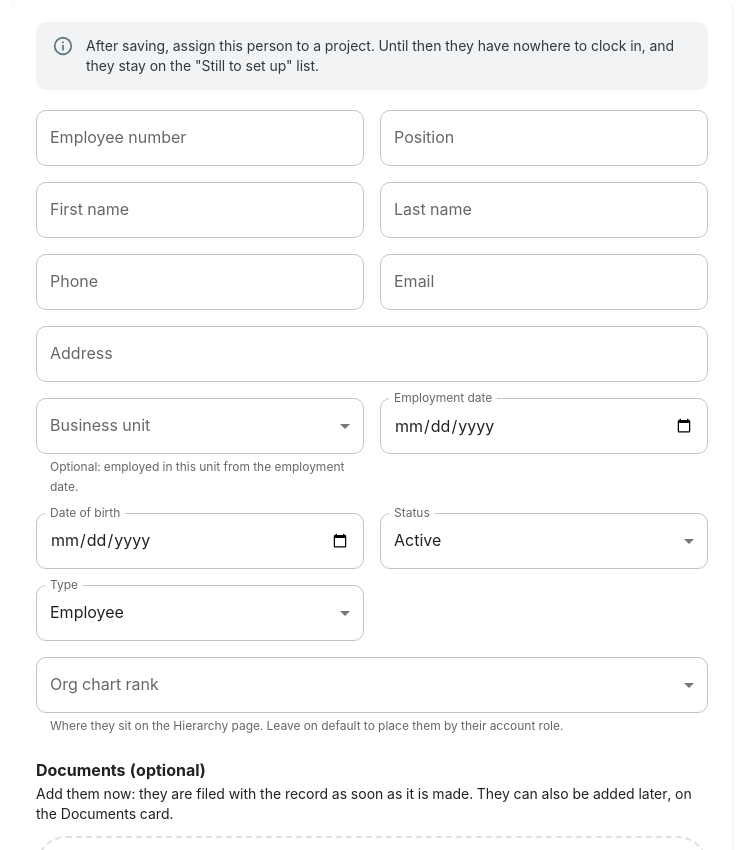
Test: EmployeeFormPage › puts a server-side field error on the field that caused it
This screenshot has width=750, height=850.
Type "EMP-001" into the field labelled "Employee number". click: (200, 138)
box: [36, 110, 364, 166]
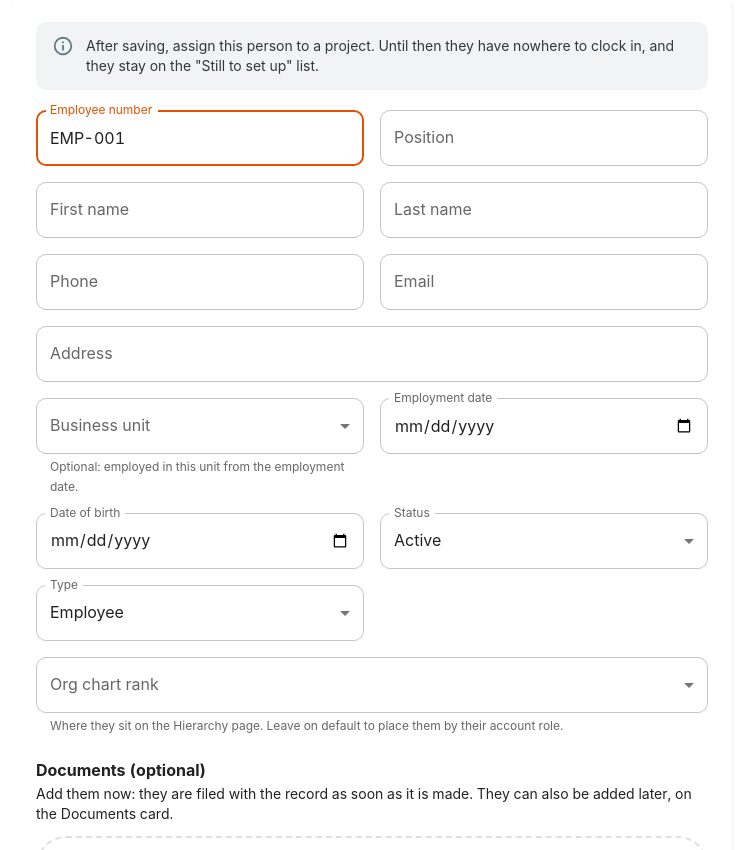
Type "Zidar" into the field labelled "Position". click: (544, 138)
box: [380, 110, 708, 166]
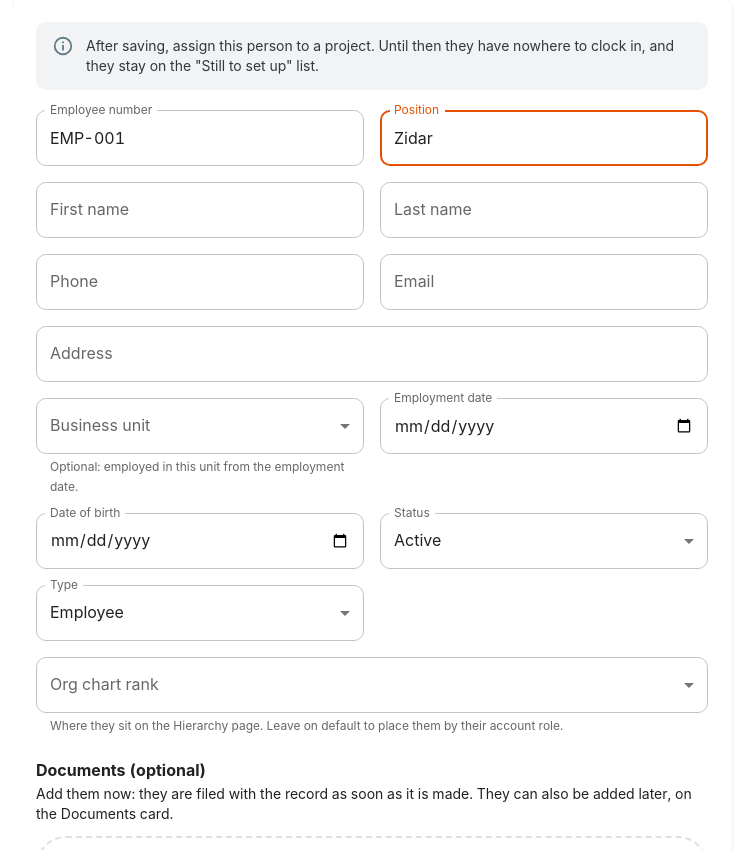
Type "Ivan" into the field labelled "First name". click: (200, 210)
box: [36, 182, 364, 238]
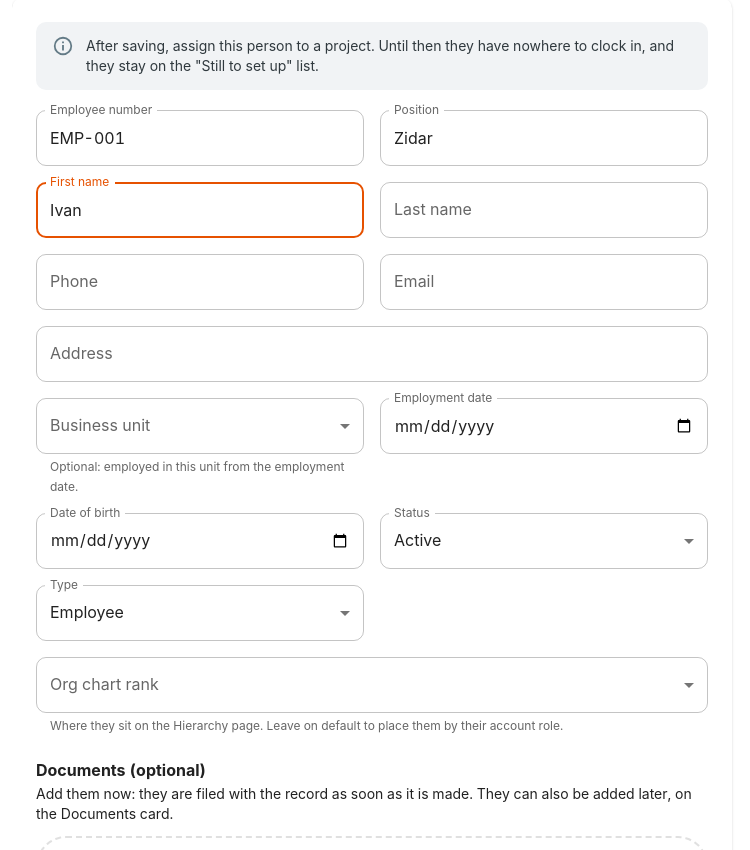
Type "Horvat" into the field labelled "Last name". click: (544, 210)
box: [380, 182, 708, 238]
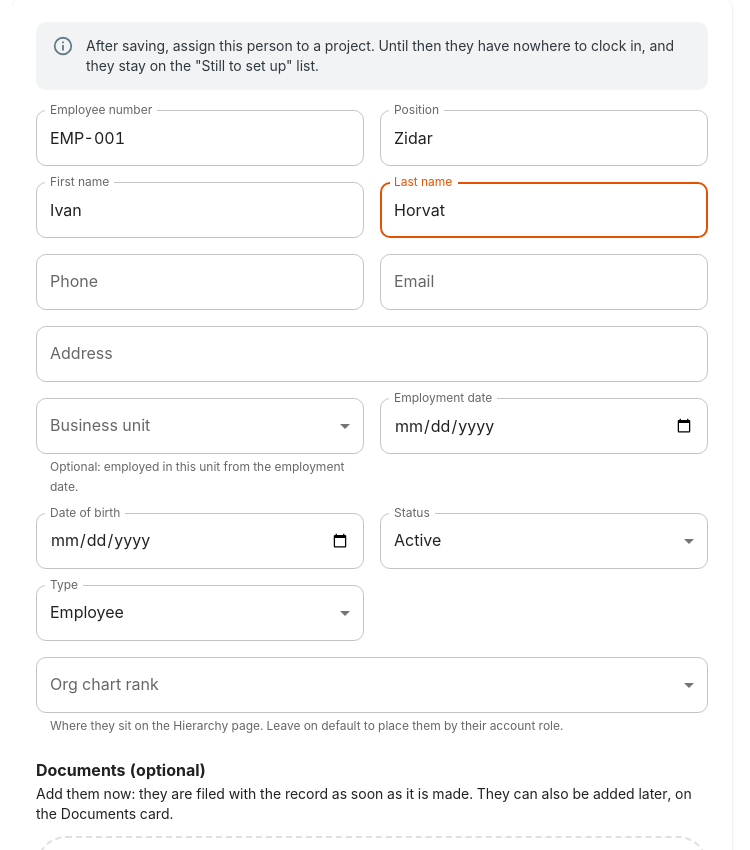
Type "2024-01-15" into the date field labelled "Employment date". click: (544, 426)
box: [380, 398, 708, 454]
(page scrolled)
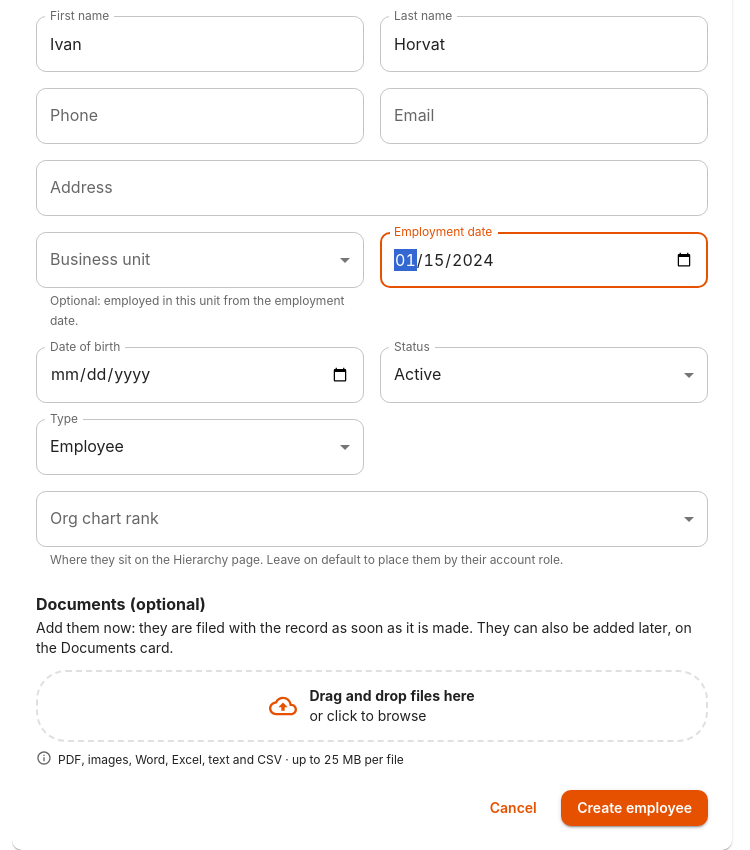
Click the button "Create employee". click: (635, 808)
box: [561, 790, 708, 826]
(page scrolled)
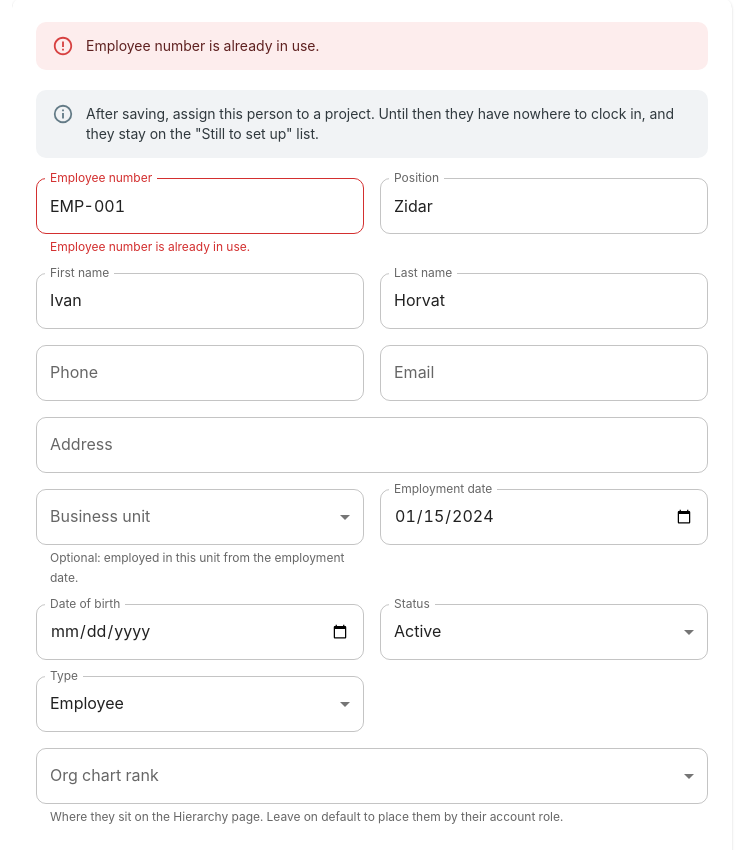
Check: the 1st text "Employee number is already in use." is shown, box [86, 37, 319, 54]
